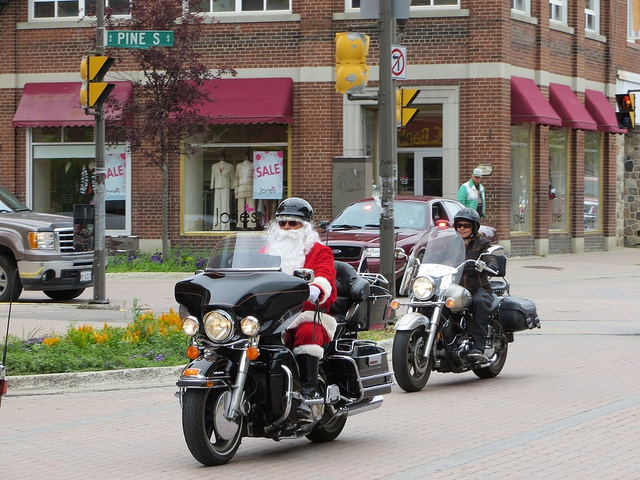non-vehicle: (174, 234, 389, 459), (388, 227, 538, 392)
